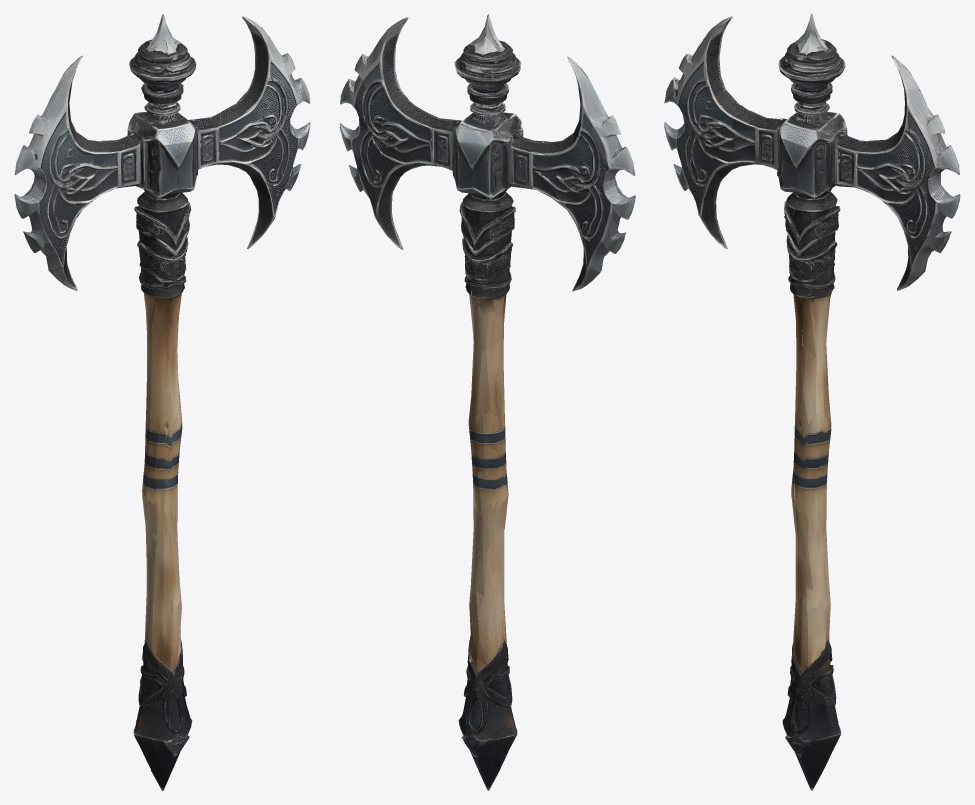
Rendered from axe_1.glb.
3 views of the same model, side by side, from view 1: azimuth 30°, elevation 25°; view 2: azimuth 150°, elevation 25°; view 3: azimuth 330°, elevation 25° (orthographic).
Visible parts, largest first — view 1: axe; view 2: axe; view 3: axe.
Boxes of the visible parts, x1=… form: axe: x1=14, y1=14, x2=310, y2=790; axe: x1=339, y1=14, x2=635, y2=790; axe: x1=664, y1=14, x2=960, y2=790.
Bounding box in the file's own units: 0.3193 × 0.8 × 0.0628.
1 material, 1 textured.
